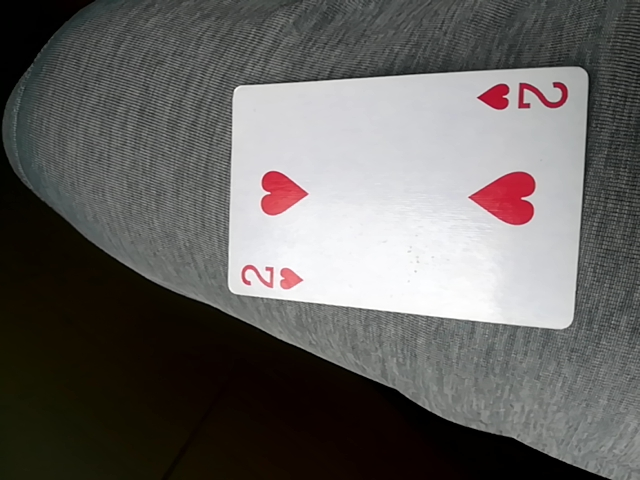hx 2: (231, 63, 587, 330)
